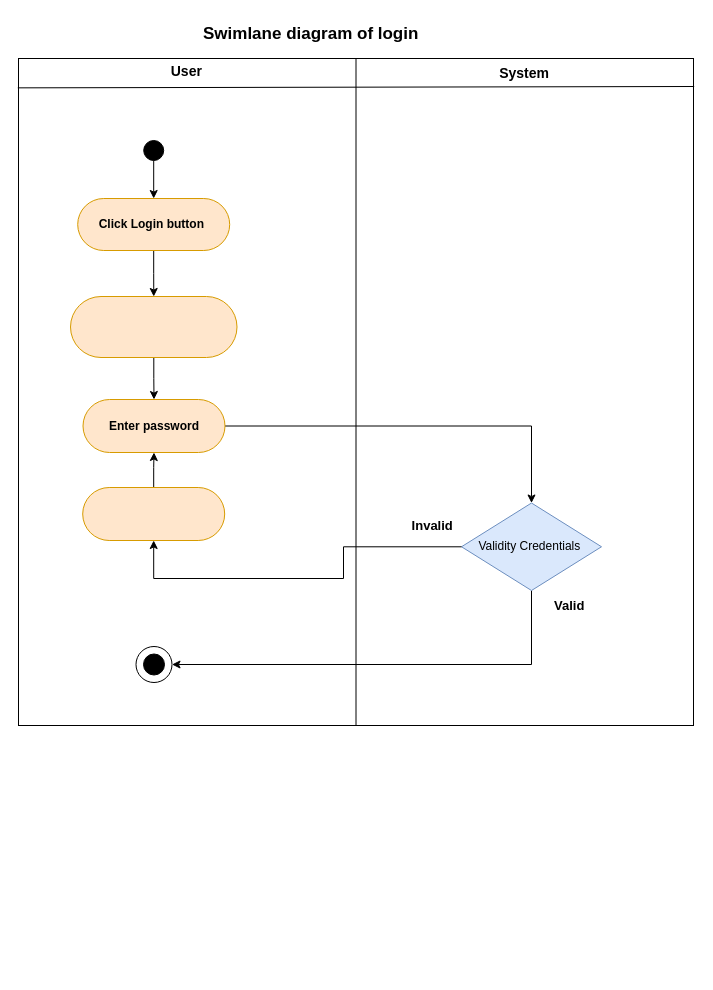
The diagram is 713 pixels wide and 990 high, and some of its shapes have lost their labels. The centre of each missing label's shape, as x and y in pixels:
"Enter E-mail/Username" belongs at point (153, 327).
"Show error message" belongs at point (153, 513).
